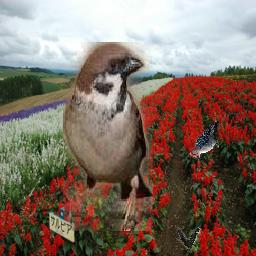Crow: (177, 226, 201, 250)
Sparrow: (63, 43, 153, 232)
Woodpecker: (189, 121, 220, 161)
